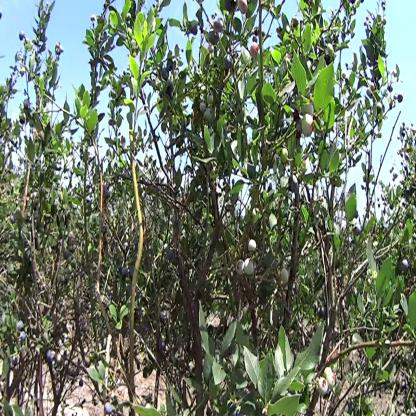intermediate: (251, 40, 260, 63)
mature: (210, 25, 221, 47), (103, 402, 118, 416), (289, 175, 300, 194), (402, 258, 412, 275)
young: (300, 113, 313, 139), (236, 260, 258, 275), (324, 366, 336, 387), (247, 235, 259, 256), (318, 379, 329, 397), (280, 148, 292, 164), (326, 42, 335, 61)
